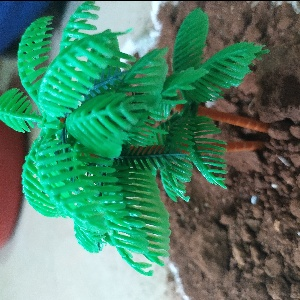plant: (1, 1, 268, 272)
